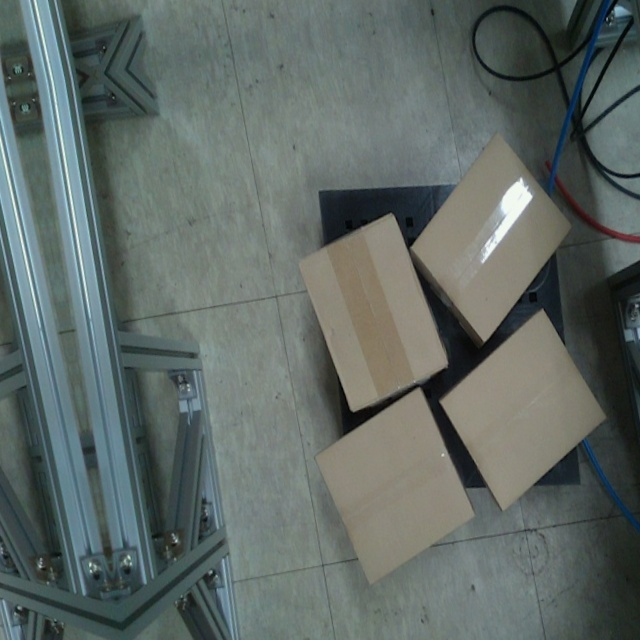box: (438, 305, 608, 511), (409, 130, 572, 340), (314, 384, 476, 586), (298, 212, 449, 413)
